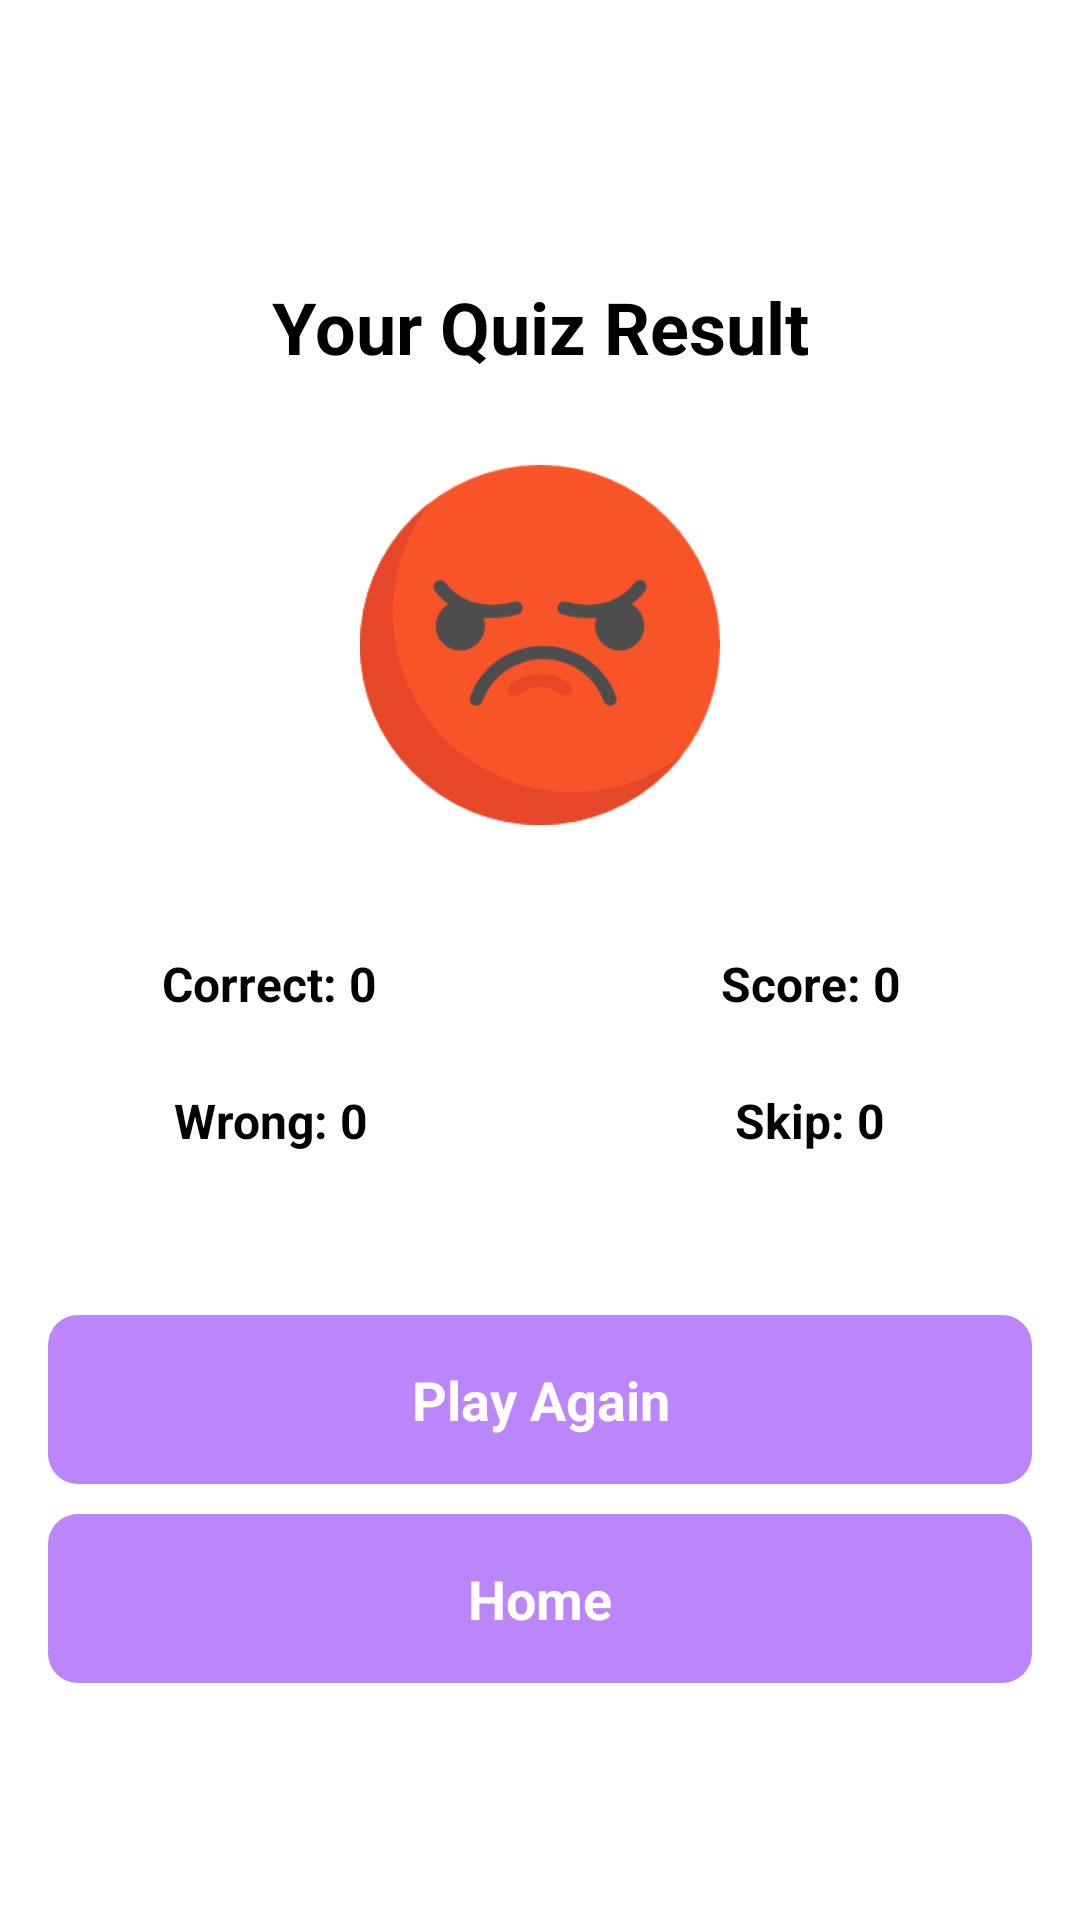

Screen size 1080px x 1920px. Icon name, then its center in pixels as (x,y):
angry: (540,645)
